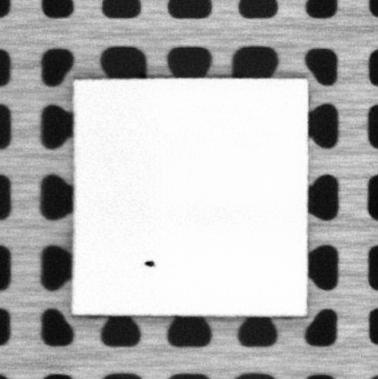DIE_INK: (143, 257, 155, 269)
